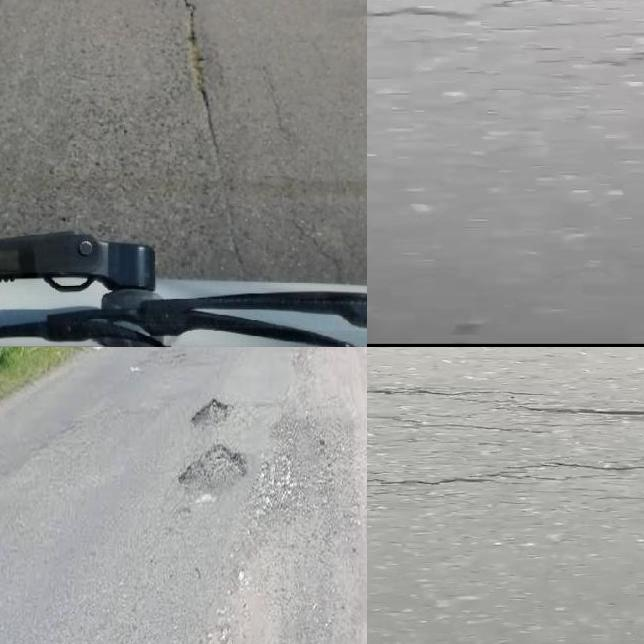Lubang: (171, 443, 242, 500)
Melintang: (367, 378, 644, 427)
Memanjang: (164, 0, 258, 284)
